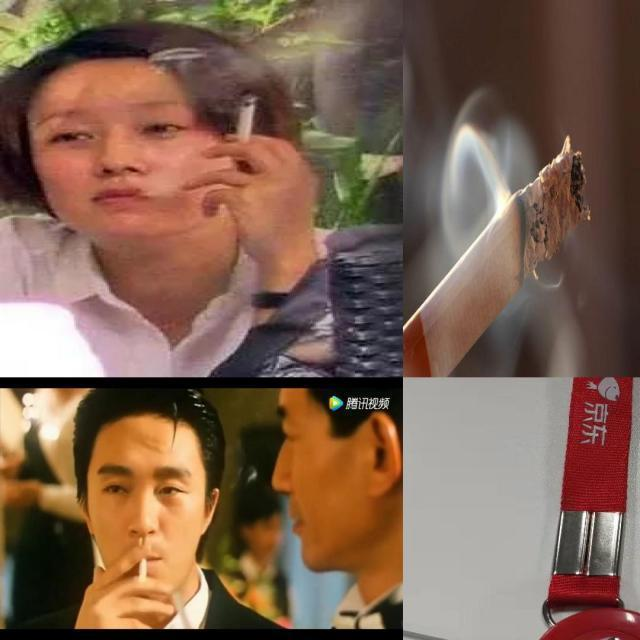rokok: (403, 133, 591, 377), (233, 92, 257, 162), (132, 549, 156, 591)
